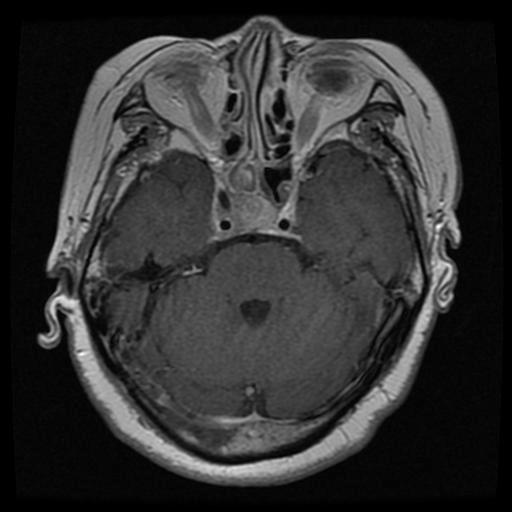Tumour-Pituitary: (205, 182, 315, 246)
